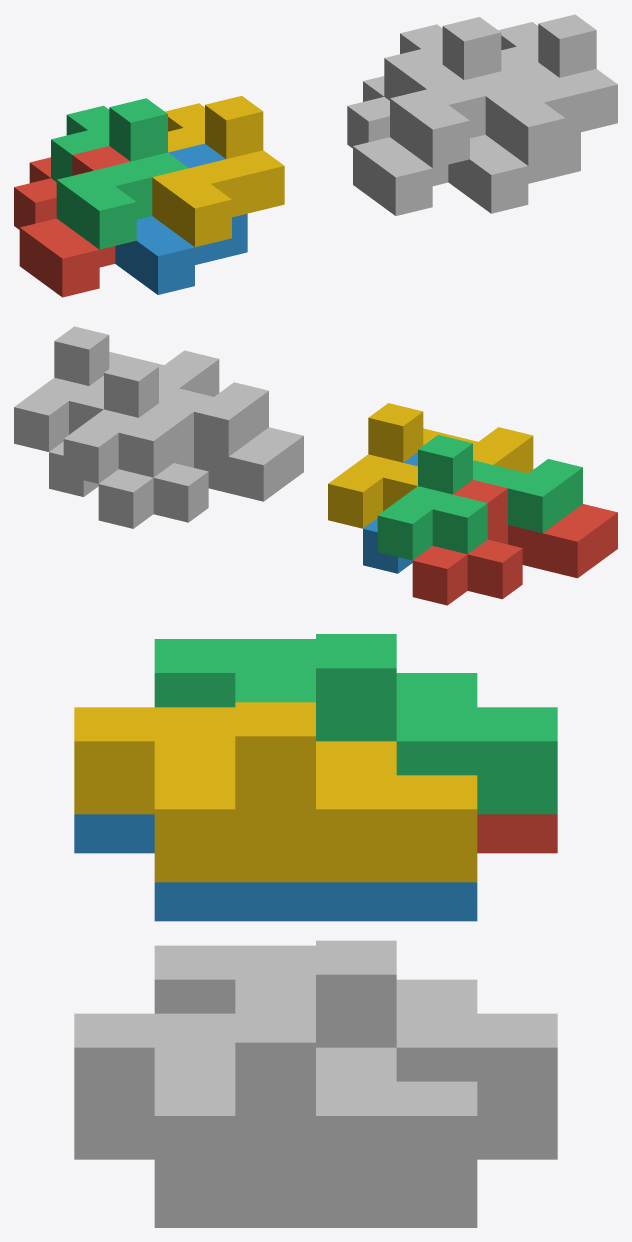
The model's file is tiling.obj.
3 views of the same model, one above another, from view 1: azimuth 30°, elevation 25°; view 2: azimuth 150°, elevation 25°; view 3: azimuth 270°, elevation 25° (orthographic). The views are drawn at different scales.
Parts seen in each view (by area): view 1: copy_1_domain_8, copy_1_domain_4, copy_1_domain_3, copy_1_domain_7, copy_1_domain_1, copy_1_domain_5, copy_1_domain_6, copy_1_domain_2; view 2: copy_1_domain_3, copy_1_domain_7, copy_1_domain_5, copy_1_domain_1, copy_1_domain_4, copy_1_domain_8, copy_1_domain_6, copy_1_domain_2; view 3: copy_1_domain_8, copy_1_domain_4, copy_1_domain_7, copy_1_domain_3, copy_1_domain_2, copy_1_domain_6, copy_1_domain_1, copy_1_domain_5.
Boxes of the visible parts, box(x1,y1,x2,y2) form: copy_1_domain_8: box(485, 14, 617, 165); copy_1_domain_4: box(152, 96, 284, 247); copy_1_domain_3: box(51, 98, 188, 249); copy_1_domain_7: box(384, 17, 521, 168); copy_1_domain_1: box(14, 146, 130, 297); copy_1_domain_5: box(347, 64, 463, 215); copy_1_domain_6: box(448, 62, 580, 213); copy_1_domain_2: box(115, 143, 247, 294); copy_1_domain_3: box(377, 435, 582, 560); copy_1_domain_7: box(63, 358, 268, 483); copy_1_domain_5: box(98, 403, 303, 528); copy_1_domain_1: box(412, 480, 617, 605); copy_1_domain_4: box(328, 403, 533, 528); copy_1_domain_8: box(14, 326, 219, 451); copy_1_domain_6: box(49, 375, 103, 496); copy_1_domain_2: box(363, 452, 417, 573); copy_1_domain_8: box(74, 1008, 477, 1188); copy_1_domain_4: box(74, 702, 477, 882); copy_1_domain_7: box(154, 940, 557, 1120); copy_1_domain_3: box(154, 634, 557, 814); copy_1_domain_2: box(74, 814, 477, 921); copy_1_domain_6: box(74, 1120, 477, 1227); copy_1_domain_1: box(477, 814, 557, 853); copy_1_domain_5: box(477, 1120, 557, 1159).
Size of the model in its own units: 15 by 3 by 6.
